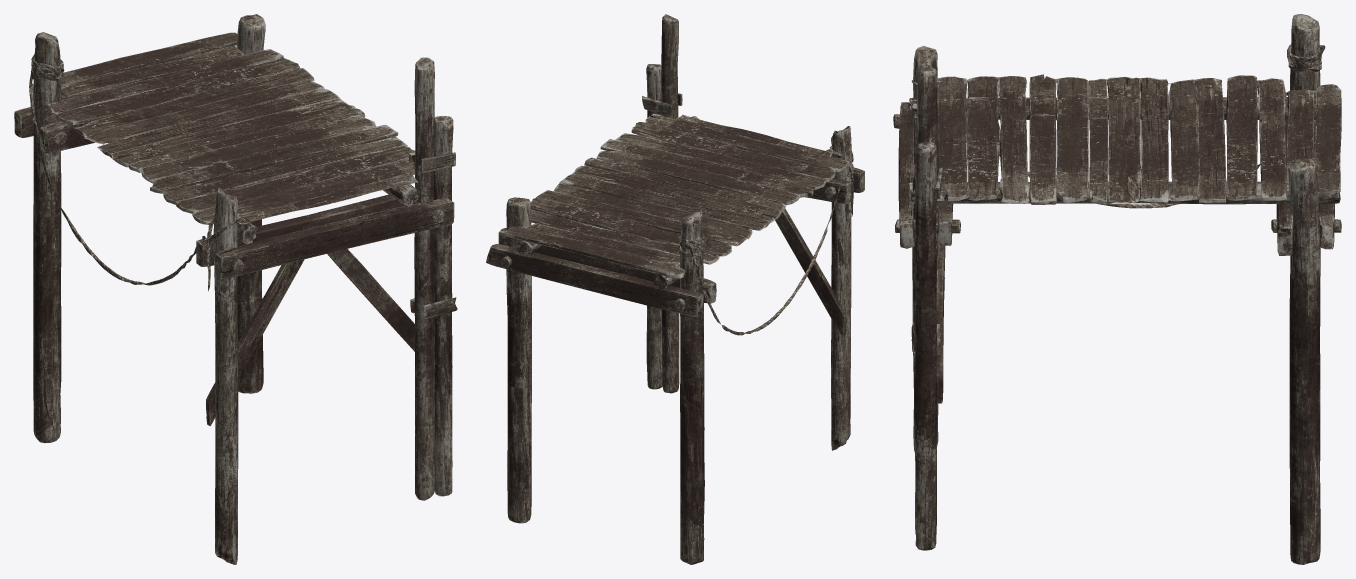
The model's file is wooden_pier_section_01.glb.
3 views of the same model, side by side, from view 1: azimuth 30°, elevation 25°; view 2: azimuth 150°, elevation 25°; view 3: azimuth 270°, elevation 25° (orthographic). The views are drawn at different scales.
Parts seen in each view (by area): view 1: body; view 2: body; view 3: body.
Part boxes in pixels (bbox=[...]): body: bbox=[14, 14, 457, 564]; body: bbox=[486, 14, 864, 564]; body: bbox=[893, 14, 1341, 564].
Size of the model in its own units: 2.49 by 4.27 by 3.52.
Materials: 1 (1 with a texture image).
